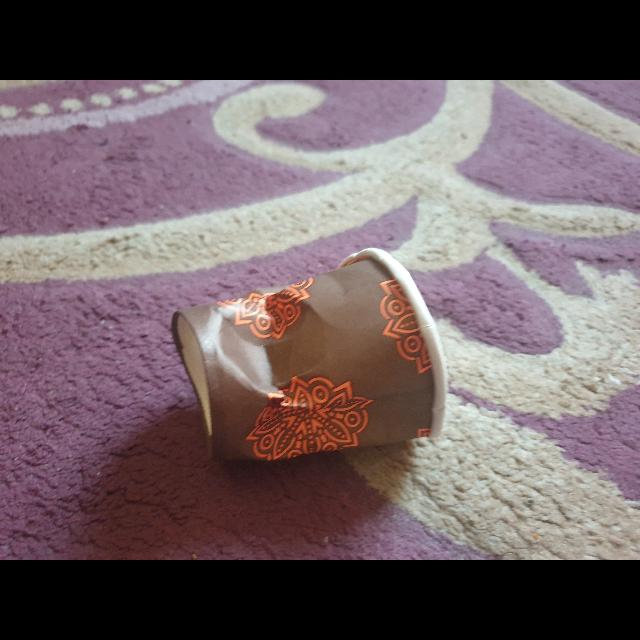trash: (164, 238, 458, 478)
